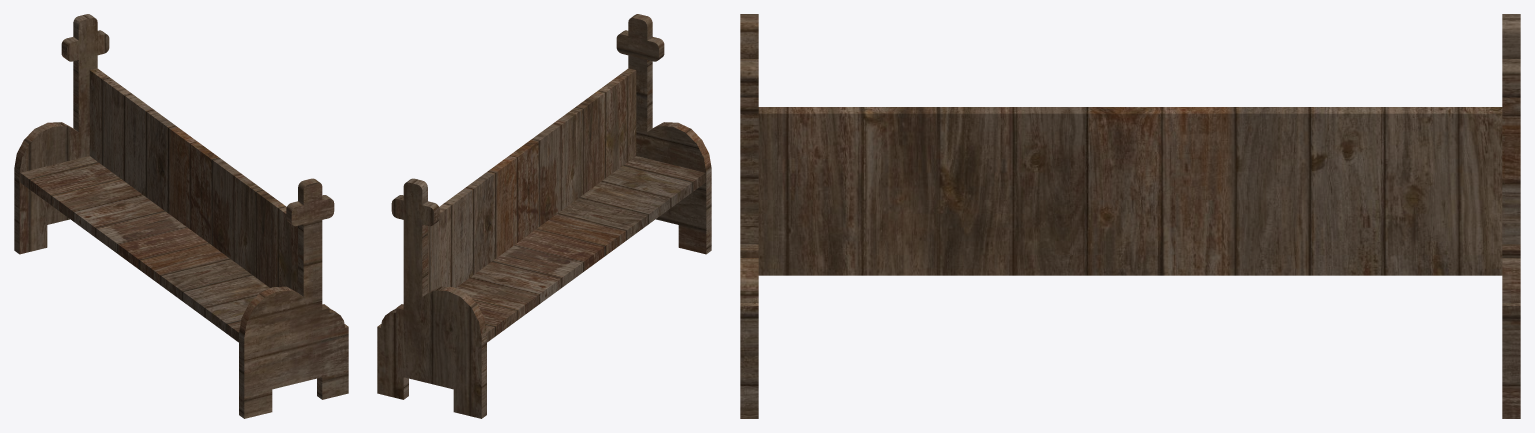
Rendered from Bench_1.fbx.
The picture shows the model from 3 angles, left to right: view 1: azimuth 30°, elevation 25°; view 2: azimuth 150°, elevation 25°; view 3: azimuth 270°, elevation 25°; orthographic projection. The views are drawn at different scales.
Parts seen in each view (by area): view 1: bench_1_low; view 2: bench_1_low; view 3: bench_1_low.
Part boxes in pixels (x1,y1,x2,y2): bench_1_low: (14,14,348,418); bench_1_low: (377,14,711,418); bench_1_low: (740,14,1520,418).
Size of the model in its own units: 268 by 70.11 by 140.
